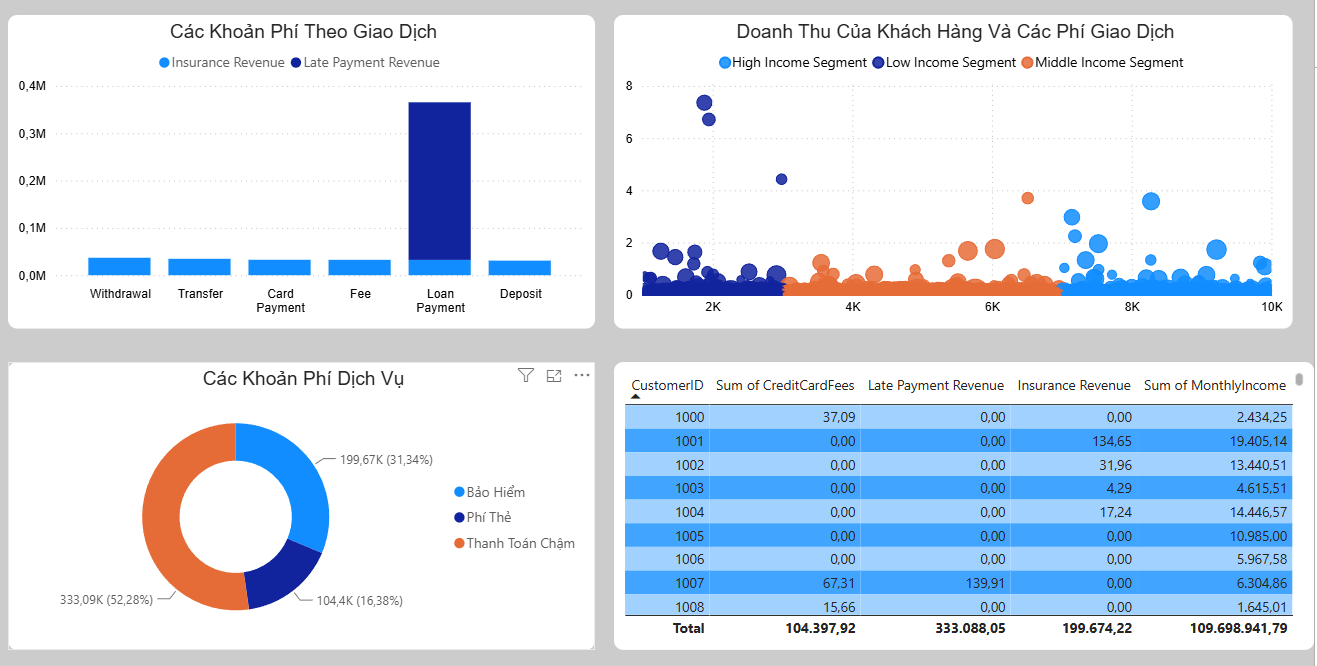

Layout of this report page (visuals, bound fields, positions):
{"tool":"powerbi","page":{"name":"Page 3","canvas":[1280,720],"ordinal":2},"visuals":[{"type":"columnChart","title":"Các Khoản Phí Theo Giao Dịch","fields":{"Category":["Banking Data.TransactionType"],"Y":["Banking Data.Insurance Revenue","Banking Data.Late Payment Revenue"]},"box":[9.7,30.2,570.9,305.4],"z":0},{"type":"scatterChart","title":"Doanh Thu Của Khách Hàng Và Các Phí Giao Dịch","fields":{"X":["Avg(Banking Data.MonthlyIncome)"],"Y":["Banking Data.Fee Ratio"],"Size":["Banking Data.Total Fees"],"Series":["Banking Data.CustomerSegment"],"Category":["Banking Data.CustomerID"]},"box":[599.1,30.2,660.4,305.4],"z":1000},{"type":"donutChart","title":"Các Khoản Phí Dịch Vụ","fields":{"Y":["Sum(Banking Data.InsuranceFees)","Sum(Banking Data.CreditCardFees)","Sum(Banking Data.LatePaymentAmount)"]},"box":[9.7,367.7,570.9,280.1],"z":2000},{"type":"tableEx","fields":{"Values":["Banking Data.CustomerID","Sum(Banking Data.CreditCardFees)","Banking Data.Late Payment Revenue","Banking Data.Insurance Revenue","Sum(Banking Data.MonthlyIncome)"]},"box":[599.1,367.7,680.9,280.1],"z":3000}]}

Visuals, with their boxes on the page's 1280x720 design canvas (x1, y1, x2, y2). These are canvas units, not pixel positions in the 1317x666 screenshot, which may show the page scaled, cropped or inside an application window:
"Các Khoản Phí Theo Giao Dịch" columnChart: bbox=[10, 30, 581, 336]
"Doanh Thu Của Khách Hàng Và Các Phí Giao Dịch" scatterChart: bbox=[599, 30, 1260, 336]
"Các Khoản Phí Dịch Vụ" donutChart: bbox=[10, 368, 581, 648]
tableEx - Banking Data.CustomerID x Sum(Banking Data.CreditCardFees): bbox=[599, 368, 1280, 648]
